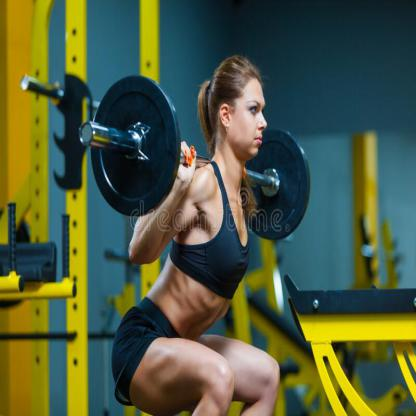Barbell: (88, 71, 184, 218)
